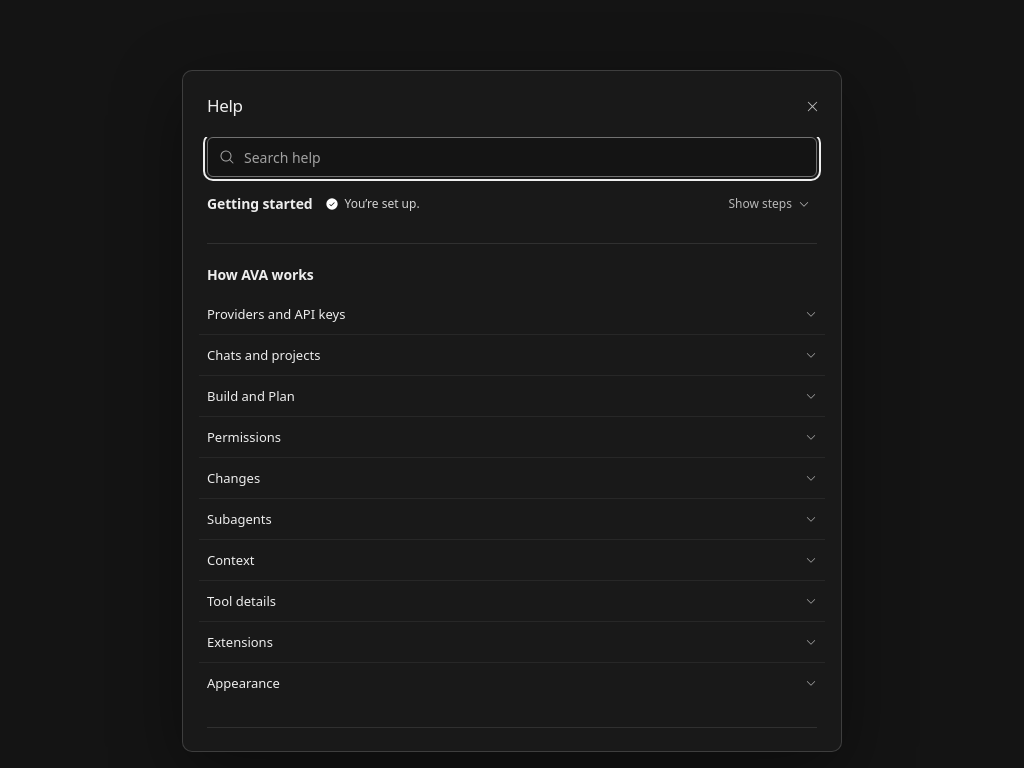
Scenario: Help dialog › finds “delete chat” in Chats and projects
Type "delete chat" into the search field labelled "Search help" at (512, 157), box x1=207 y1=137 x2=817 y2=177
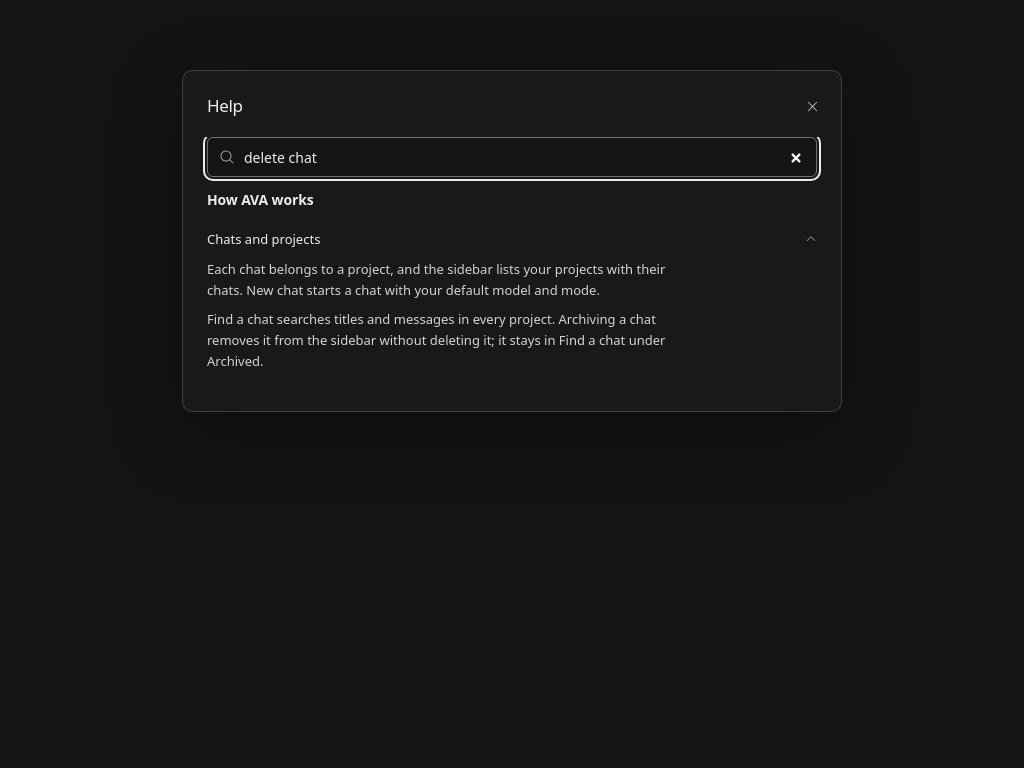
Result: the buttons read "Chats and projects", in this order at x1=199 y1=219 x2=825 y2=259
